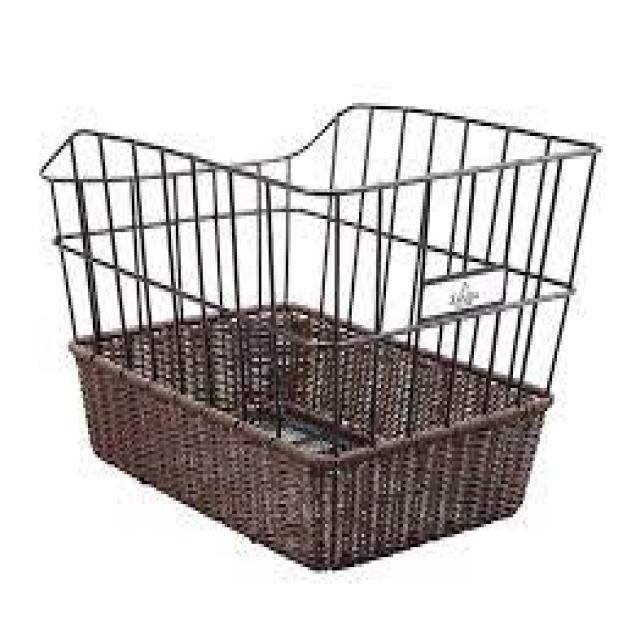basket: (39, 104, 600, 573)
